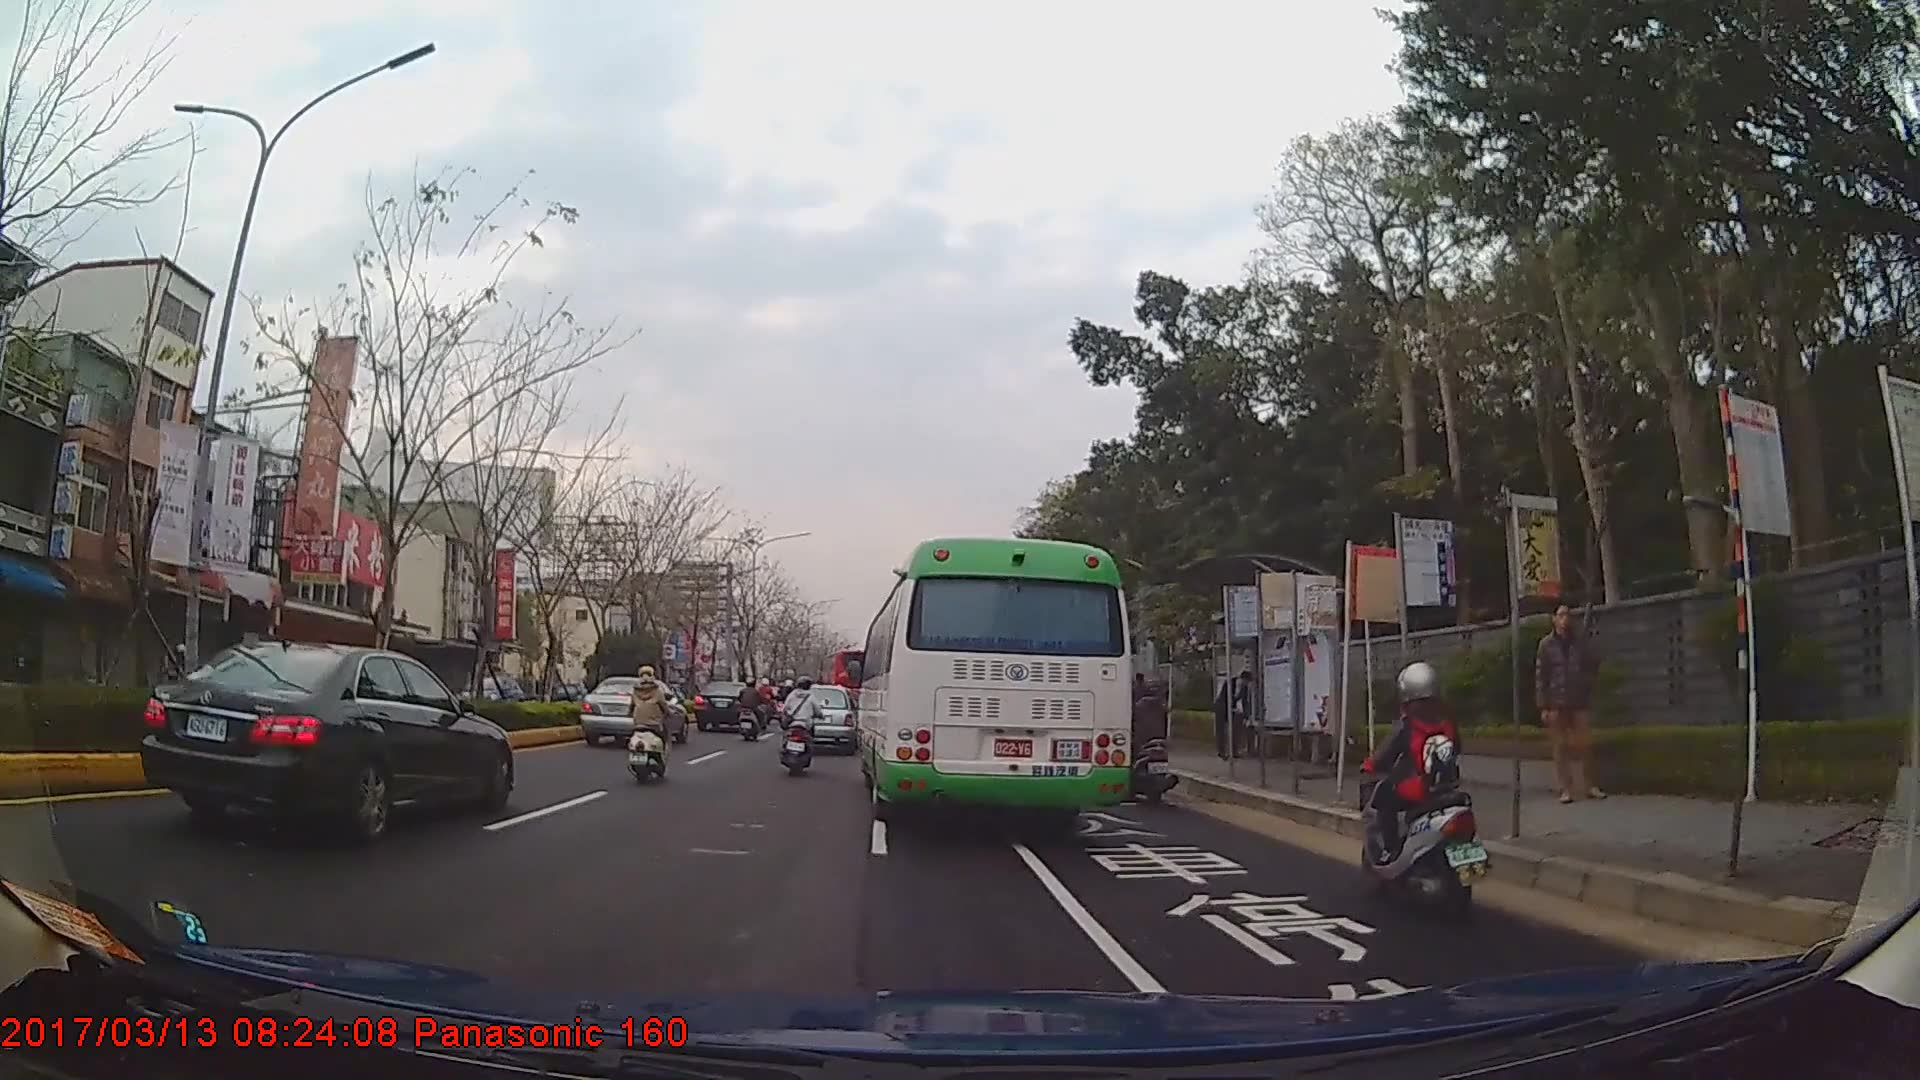pedestrian: (1531, 602, 1606, 807), (1208, 669, 1257, 761)
rider: (1354, 659, 1491, 918), (1125, 678, 1184, 806), (626, 664, 674, 781), (782, 681, 828, 777), (738, 676, 767, 742), (166, 646, 190, 687), (779, 679, 801, 721)
vehicle: (855, 537, 1131, 830), (135, 638, 513, 848), (581, 674, 690, 745), (788, 684, 859, 755), (447, 668, 524, 719), (694, 679, 762, 734)
